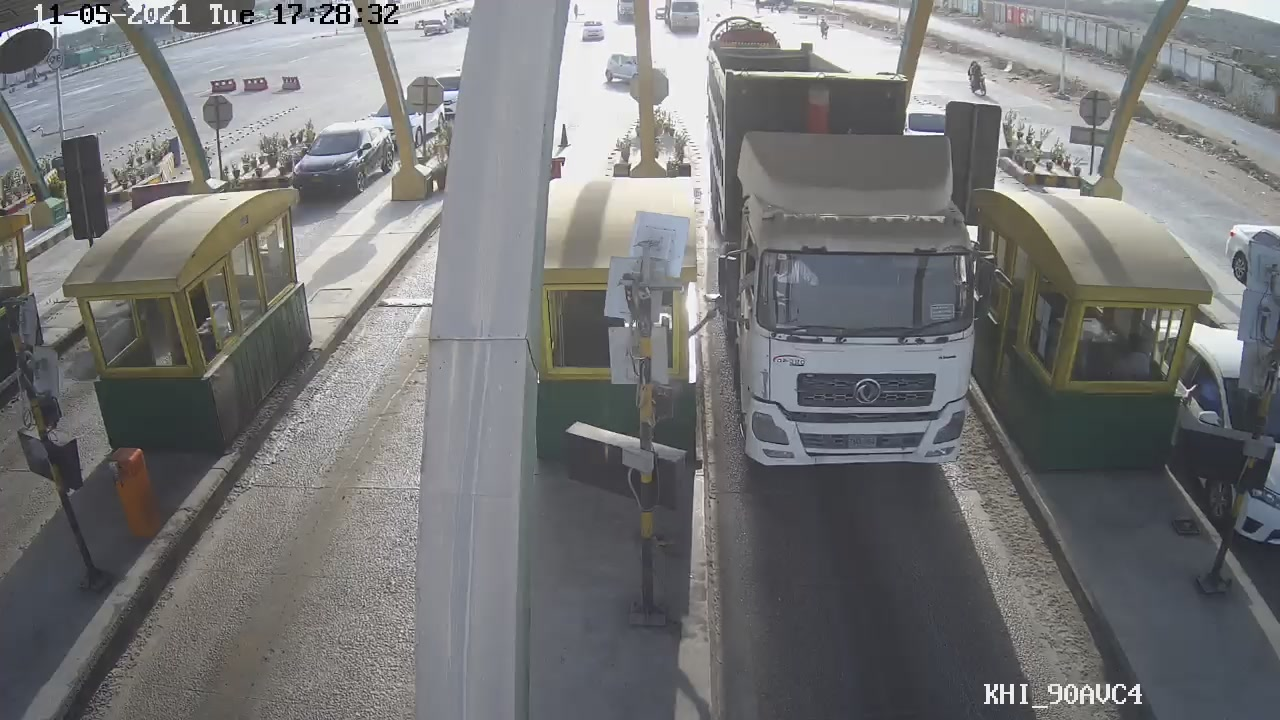F6: (703, 42, 1005, 481)
